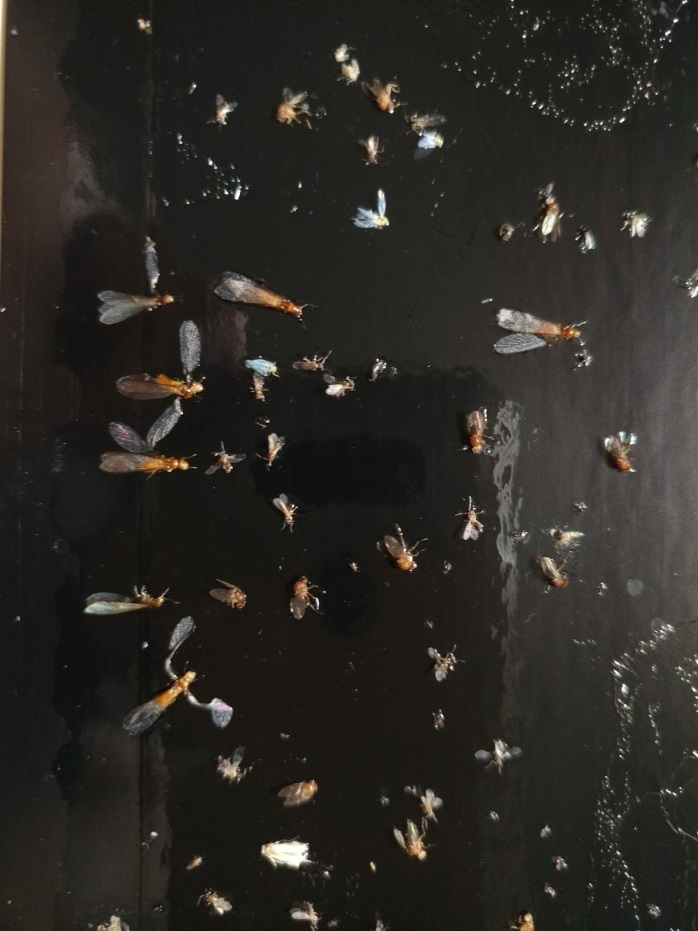termite: (105, 612, 235, 743), (108, 316, 212, 446), (207, 265, 311, 342), (483, 303, 594, 372), (92, 425, 198, 490), (79, 274, 187, 329), (77, 575, 173, 615)
